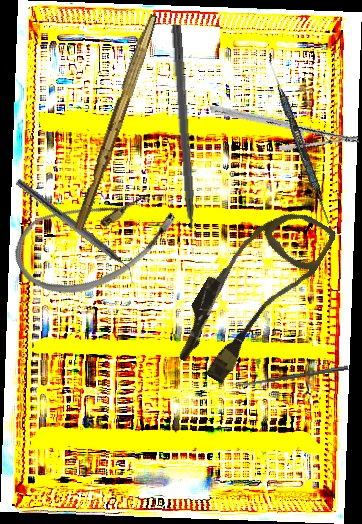Cannula: (164, 187, 339, 396), (2, 160, 188, 317)
Chopper: (8, 177, 144, 287)
Needle Holder: (209, 66, 360, 183)
Pusher: (168, 24, 199, 257)
Scalpel Handle: (72, 11, 159, 233)
Spatula Surgical: (261, 52, 336, 226)
Surgical Spoon: (232, 364, 349, 389)
